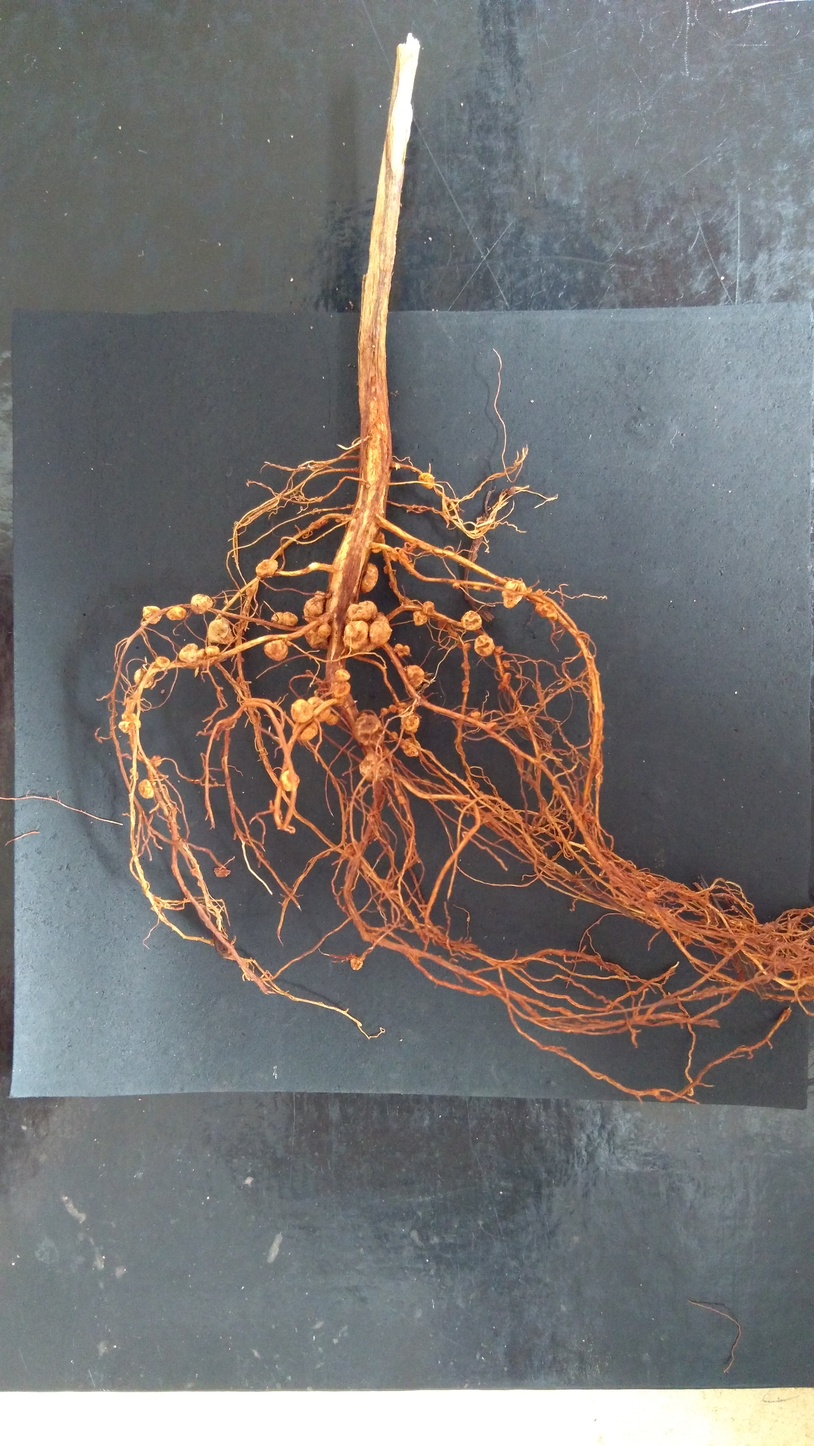nodule: (342, 600, 392, 656), (352, 712, 385, 748), (359, 751, 392, 781), (206, 617, 235, 645), (724, 916, 753, 944), (522, 722, 553, 748), (303, 622, 332, 649), (303, 590, 326, 624), (500, 580, 527, 608), (306, 696, 331, 723), (213, 929, 236, 958), (262, 638, 288, 662), (292, 718, 319, 741), (359, 562, 379, 593), (289, 698, 313, 723), (534, 599, 558, 622), (133, 666, 156, 689), (404, 664, 425, 689), (269, 611, 299, 628), (190, 593, 213, 615), (459, 610, 483, 631), (400, 711, 420, 736), (473, 635, 495, 657), (118, 711, 141, 732), (282, 768, 301, 792), (699, 912, 723, 931), (400, 738, 422, 758), (255, 559, 278, 578), (141, 605, 162, 625), (192, 649, 212, 670), (178, 643, 198, 663), (165, 605, 187, 621), (371, 530, 386, 553), (138, 779, 154, 799), (333, 680, 351, 697), (575, 630, 592, 648), (398, 545, 413, 565), (418, 472, 435, 489), (221, 714, 238, 731), (421, 600, 437, 617), (412, 610, 428, 626), (213, 865, 232, 878), (349, 957, 365, 972), (395, 643, 410, 657), (679, 932, 695, 945), (155, 655, 170, 668), (335, 669, 351, 681), (385, 550, 399, 563), (325, 713, 339, 726), (205, 645, 220, 657), (500, 672, 511, 687), (473, 581, 488, 592), (438, 618, 451, 630), (150, 755, 162, 768), (486, 721, 498, 732), (505, 486, 518, 496), (646, 889, 657, 900), (129, 768, 139, 780), (388, 730, 398, 741), (462, 642, 472, 652), (460, 661, 471, 670), (405, 562, 415, 571), (494, 645, 504, 654), (502, 659, 511, 669), (471, 711, 481, 720), (388, 704, 397, 714), (397, 795, 406, 805), (552, 786, 561, 796), (396, 707, 406, 715), (388, 580, 396, 589), (451, 581, 460, 589), (589, 814, 597, 823), (450, 630, 458, 638), (245, 587, 253, 595), (441, 497, 448, 506), (380, 707, 387, 716), (383, 565, 390, 573), (536, 588, 543, 596), (462, 679, 470, 686), (462, 685, 469, 693), (472, 782, 480, 789), (398, 701, 407, 707), (335, 516, 342, 523), (364, 482, 371, 489), (449, 503, 456, 509), (223, 599, 229, 605), (236, 676, 241, 683), (218, 686, 224, 691), (346, 503, 351, 508), (160, 689, 165, 694), (240, 657, 244, 663)
